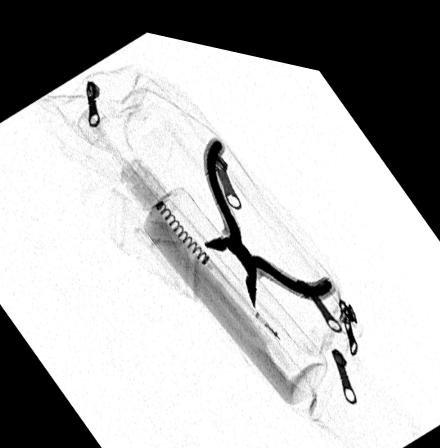Pliers: (199, 128, 335, 298)
